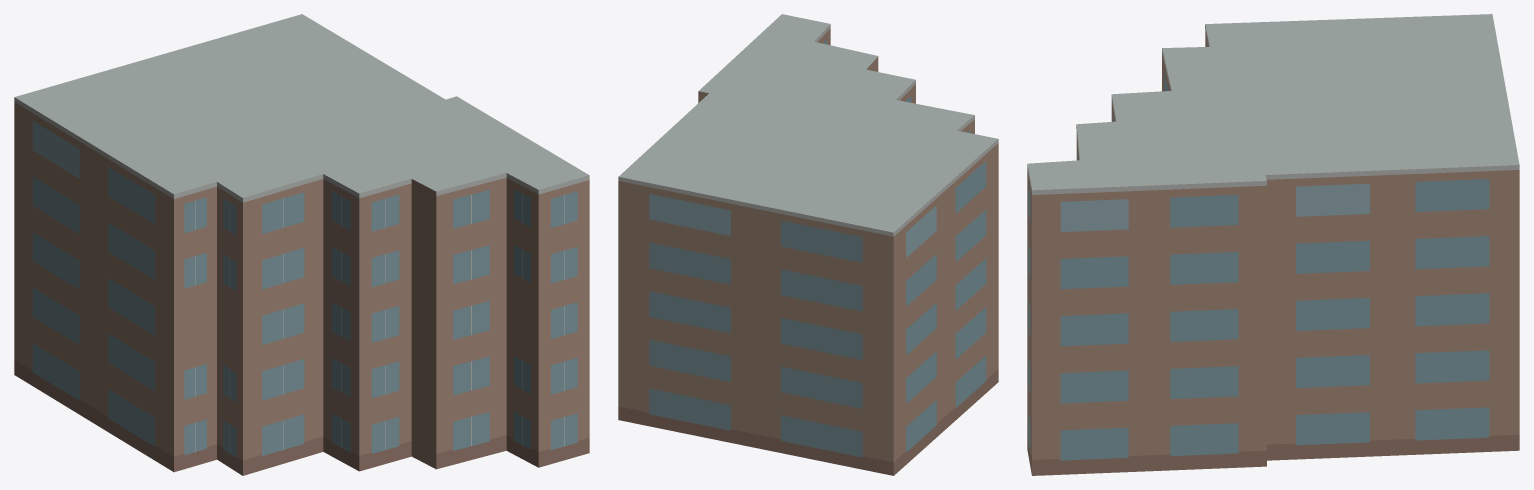
File: survey-upis-32632096.glb
The picture shows the model from 3 angles, left to right: view 1: azimuth 30°, elevation 25°; view 2: azimuth 150°, elevation 25°; view 3: azimuth 270°, elevation 25°; orthographic projection. The views are drawn at different scales.
Parts seen in each view (by area): view 1: survey-upis-32632096.tmp; view 2: survey-upis-32632096.tmp; view 3: survey-upis-32632096.tmp.
Boxes of the visible parts, x1=… form: survey-upis-32632096.tmp: x1=14, y1=14, x2=589, y2=475; survey-upis-32632096.tmp: x1=618, y1=14, x2=998, y2=475; survey-upis-32632096.tmp: x1=1027, y1=14, x2=1519, y2=475.
Size of the model in its own units: 19.21 by 14.5 by 22.66.
